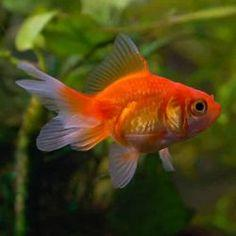goldfish: (36, 45, 230, 197)
